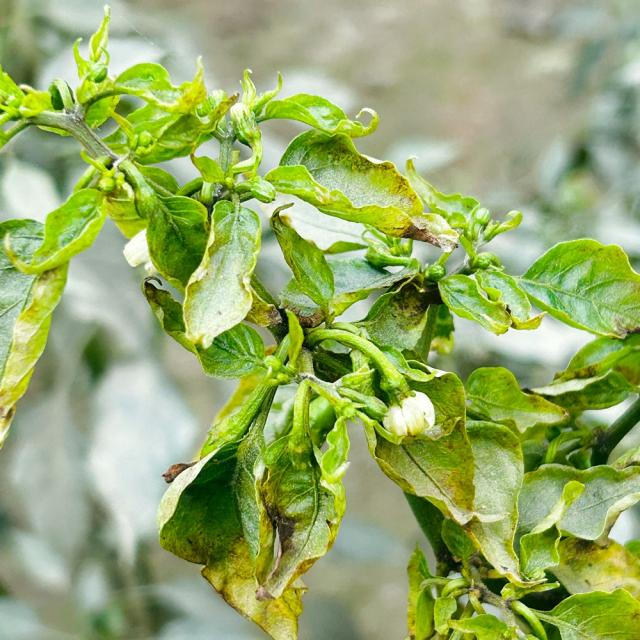Chilli_Leaf_Curl: (1, 5, 638, 638), (264, 126, 459, 254), (515, 236, 639, 340), (180, 197, 262, 351)
